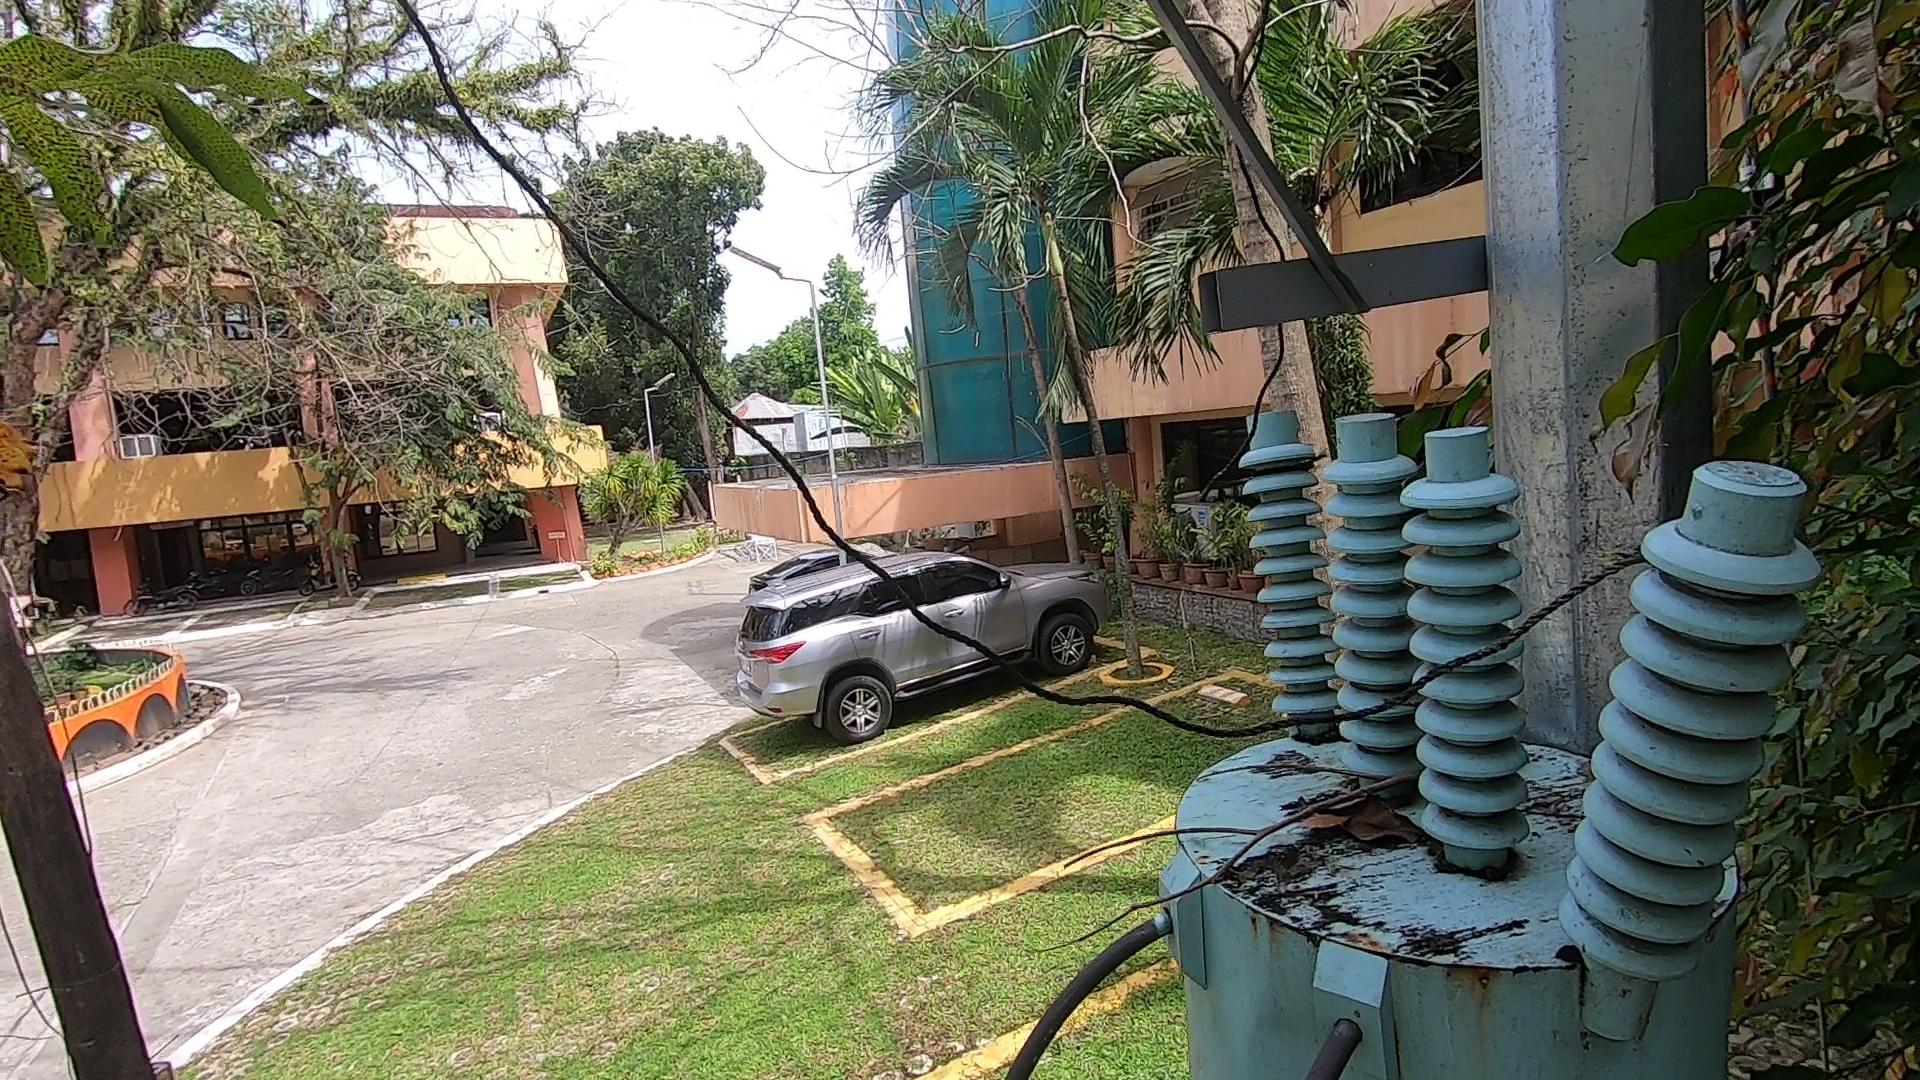leaf: (1292, 789, 1427, 857), (1286, 712, 1361, 748)
tree branch: (994, 785, 1444, 944)
